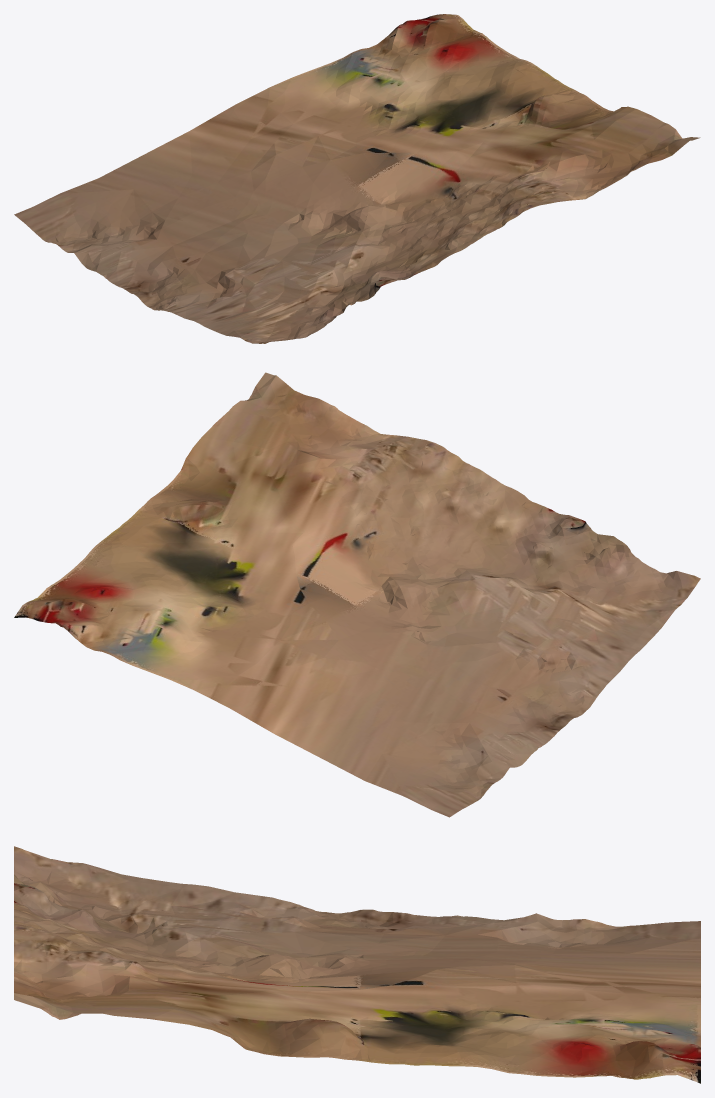
The picture shows the model from 3 angles, top to bottom: view 1: azimuth 30°, elevation 25°; view 2: azimuth 150°, elevation 25°; view 3: azimuth 270°, elevation 25°; orthographic projection. The views are drawn at different scales.
Bounding box in the file's own units: 2.09 × 0.7288 × 2.09.
Materials: 2 (2 with a texture image).
